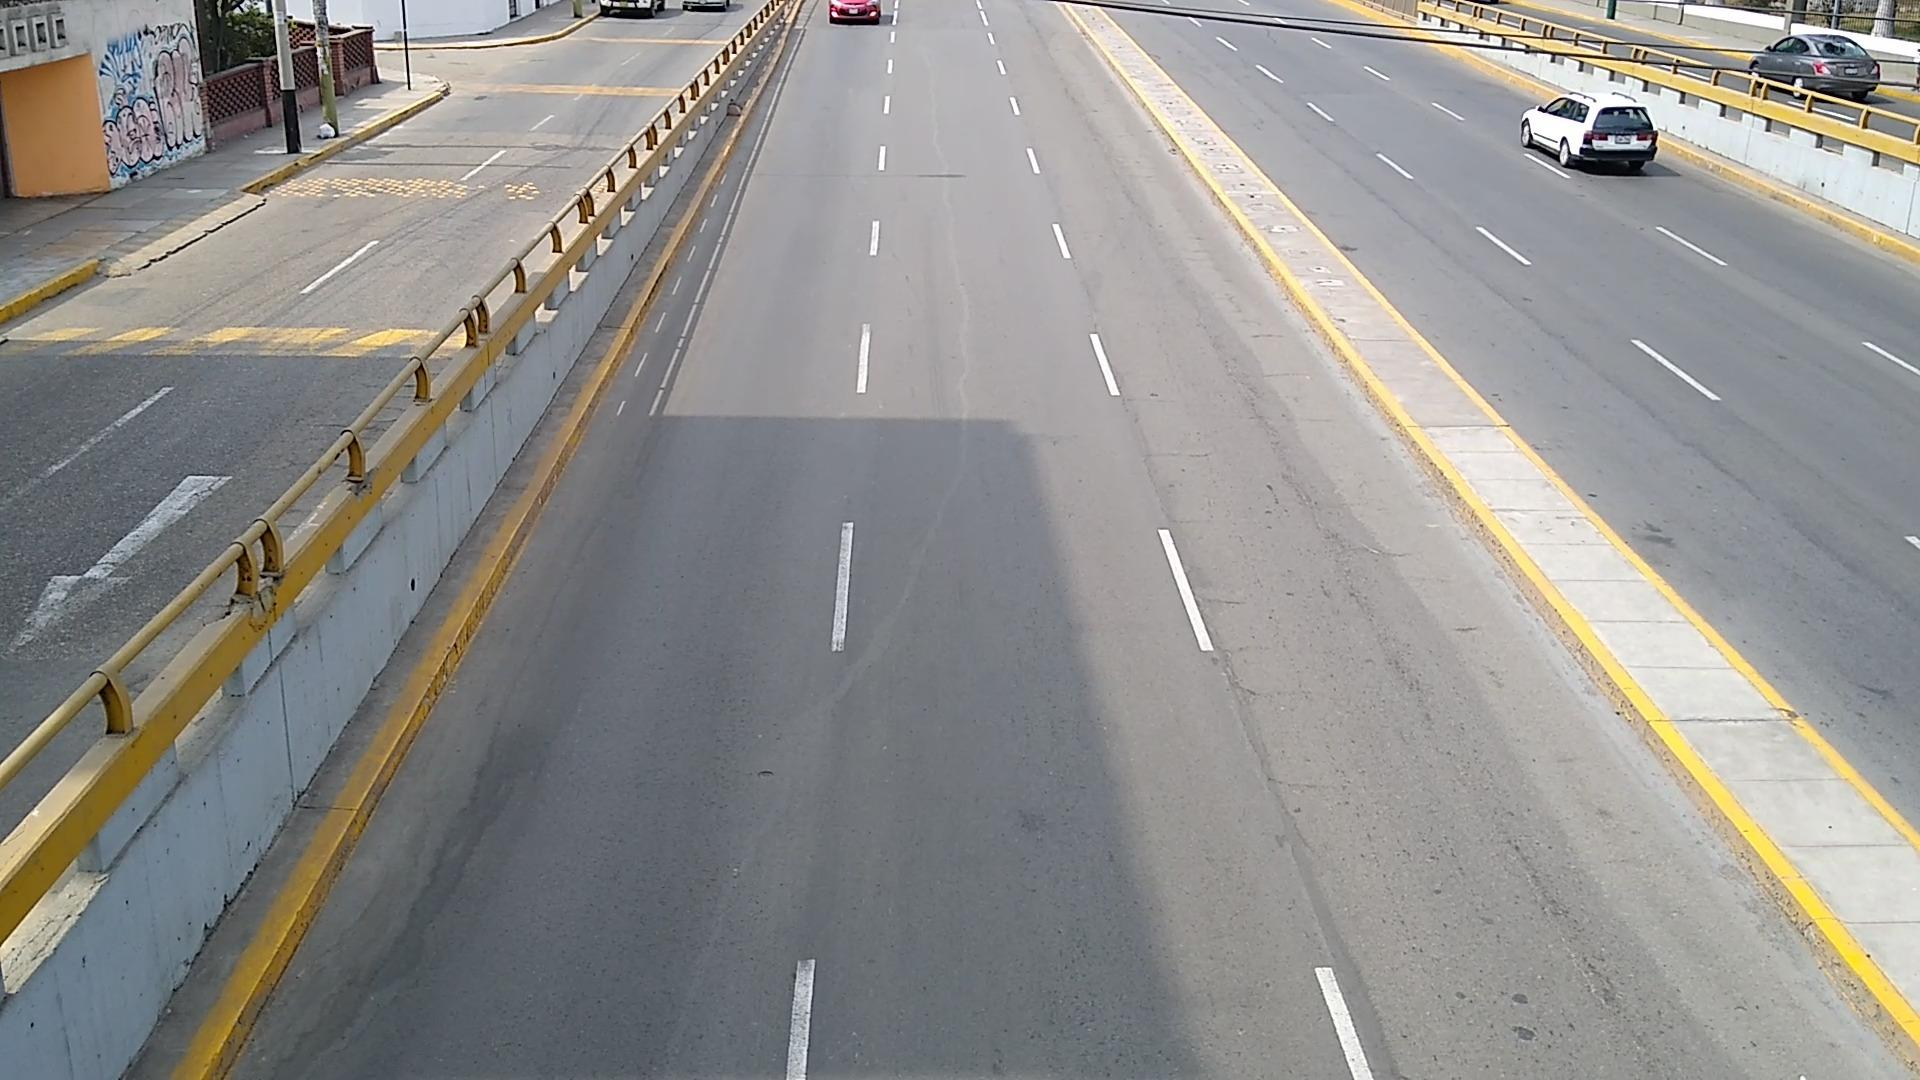car: (1523, 94, 1658, 173), (1747, 30, 1883, 102), (326, 1, 555, 41)
